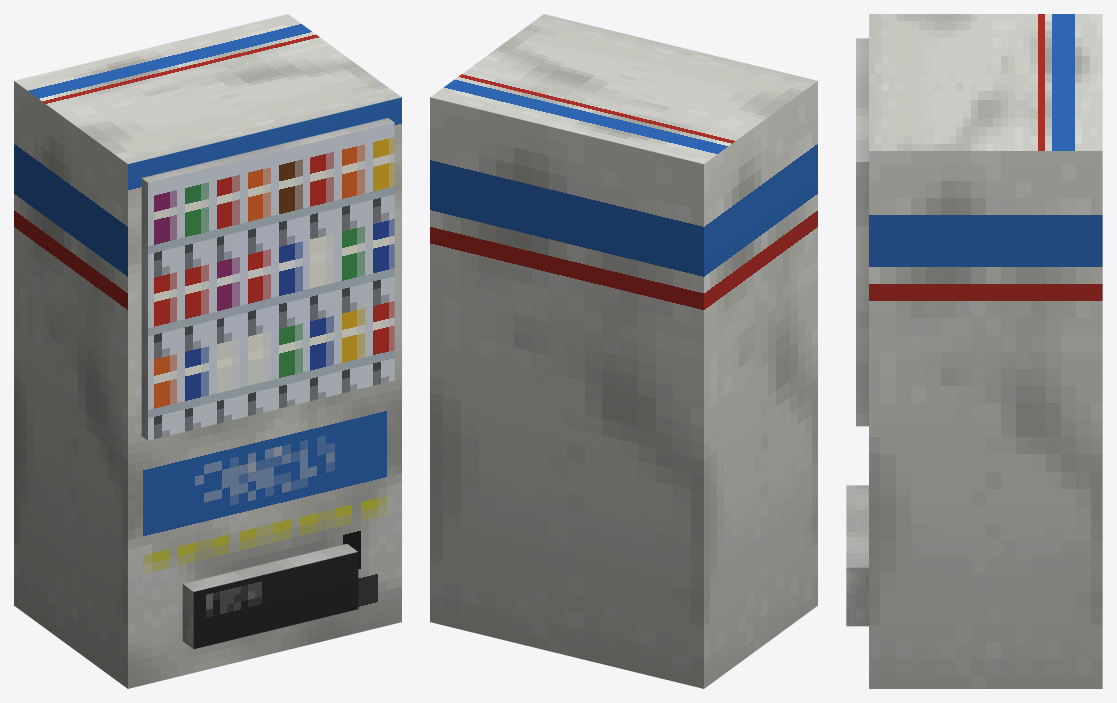
File: vending_drinks.glb
3 renders of one model, left to right at view 1: azimuth 30°, elevation 25°; view 2: azimuth 150°, elevation 25°; view 3: azimuth 270°, elevation 25°, orthographic. The views are drawn at different scales.
Parts seen in each view (by area): view 1: vending_drinks; view 2: vending_drinks; view 3: vending_drinks.
Boxes of the visible parts, bbox=[...] form: vending_drinks: bbox=[14, 14, 401, 688]; vending_drinks: bbox=[430, 14, 817, 688]; vending_drinks: bbox=[846, 14, 1102, 688].
Size of the model in its own units: 1 by 1.83 by 0.79.
Materials: 2 (2 with a texture image).
